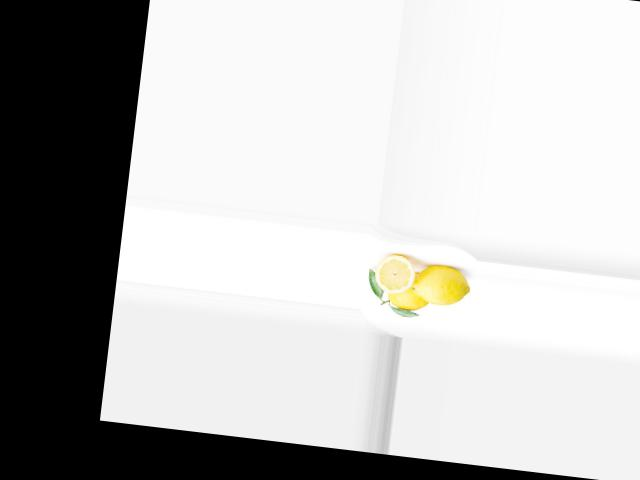lemon: (380, 271, 434, 314)
